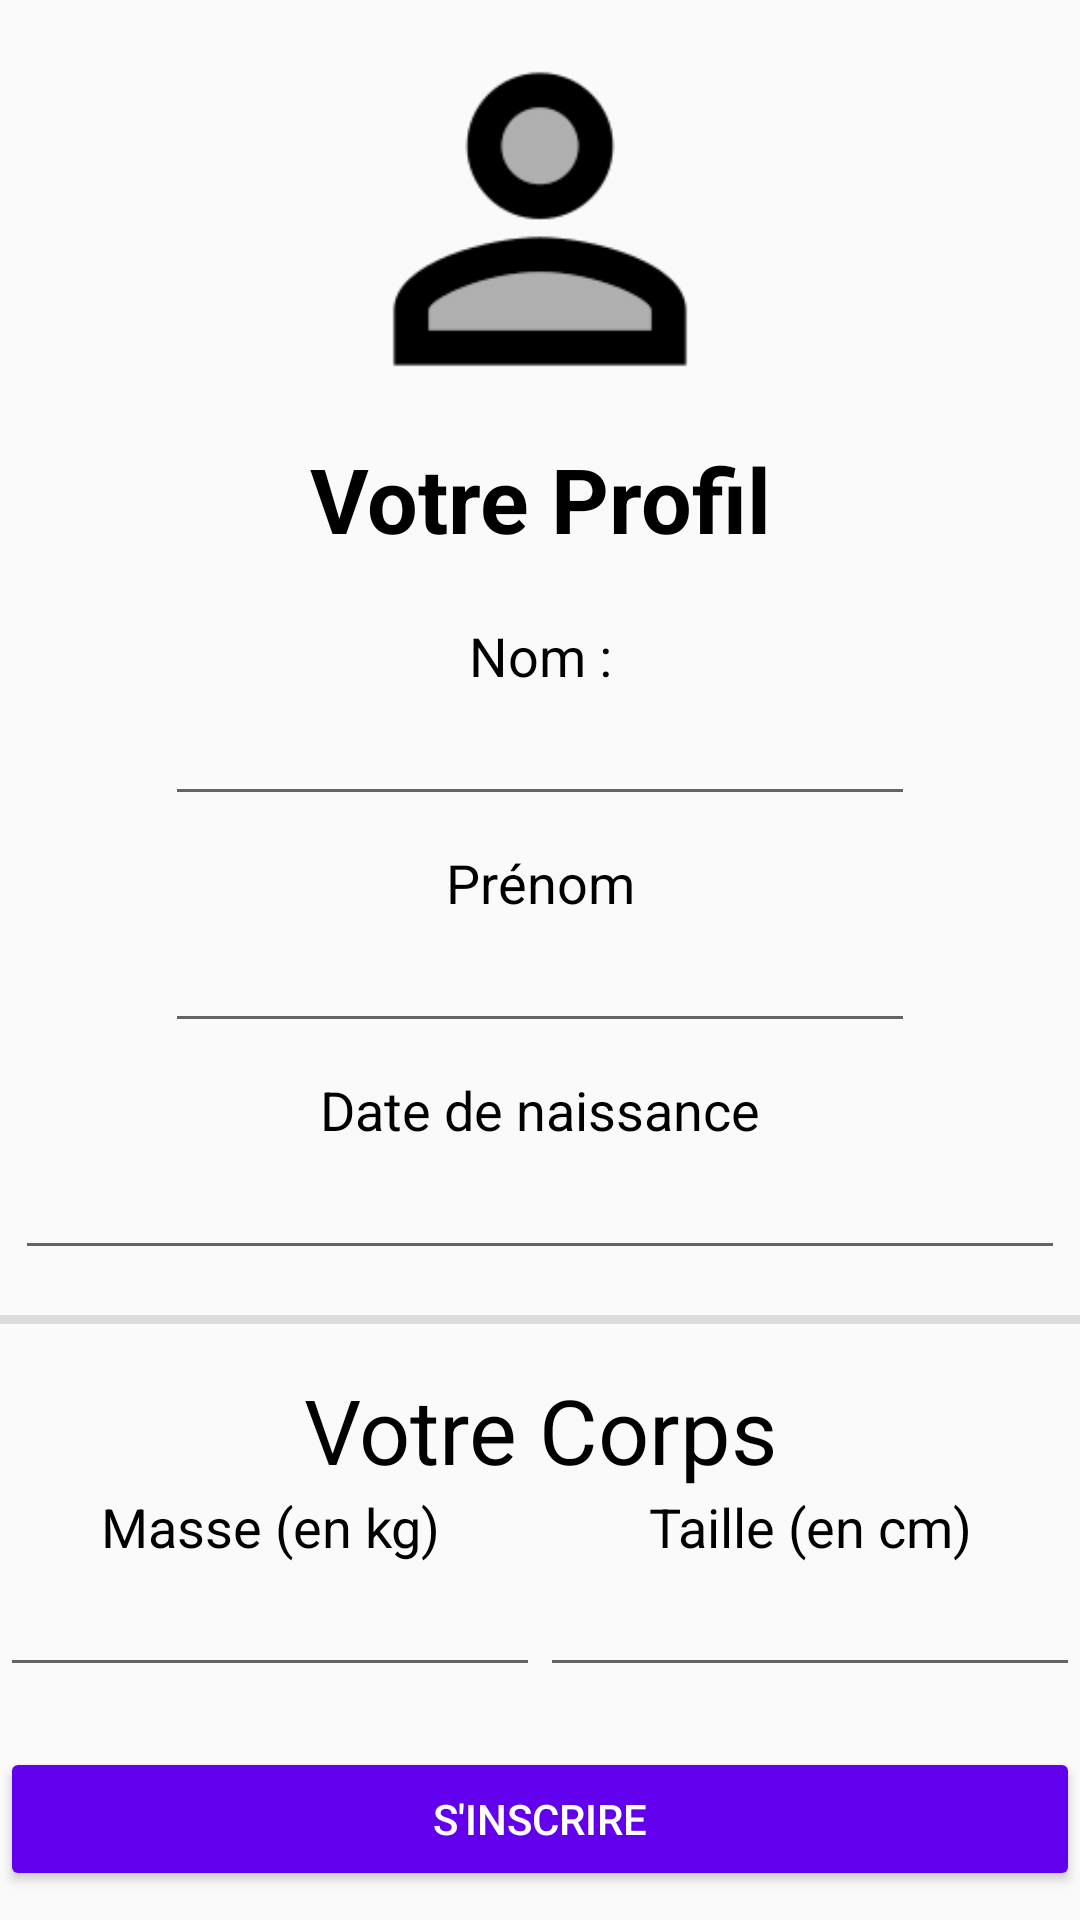

Icon bounding boxes for this 1080px×1920px phone screenshot, format {"left": x1, "top": y1, "right": x2, "bottom": y2}:
perso inscription: {"left": 392, "top": 72, "right": 688, "bottom": 367}
